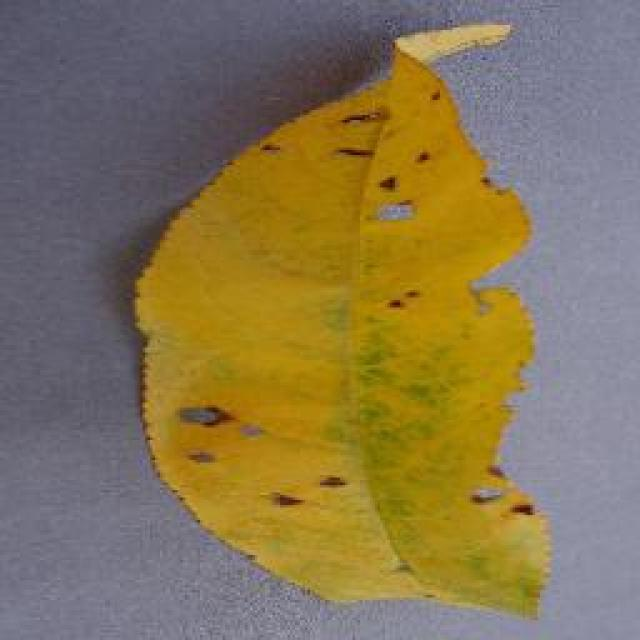Peach_Bacterial_Spot: (188, 110, 505, 582)
